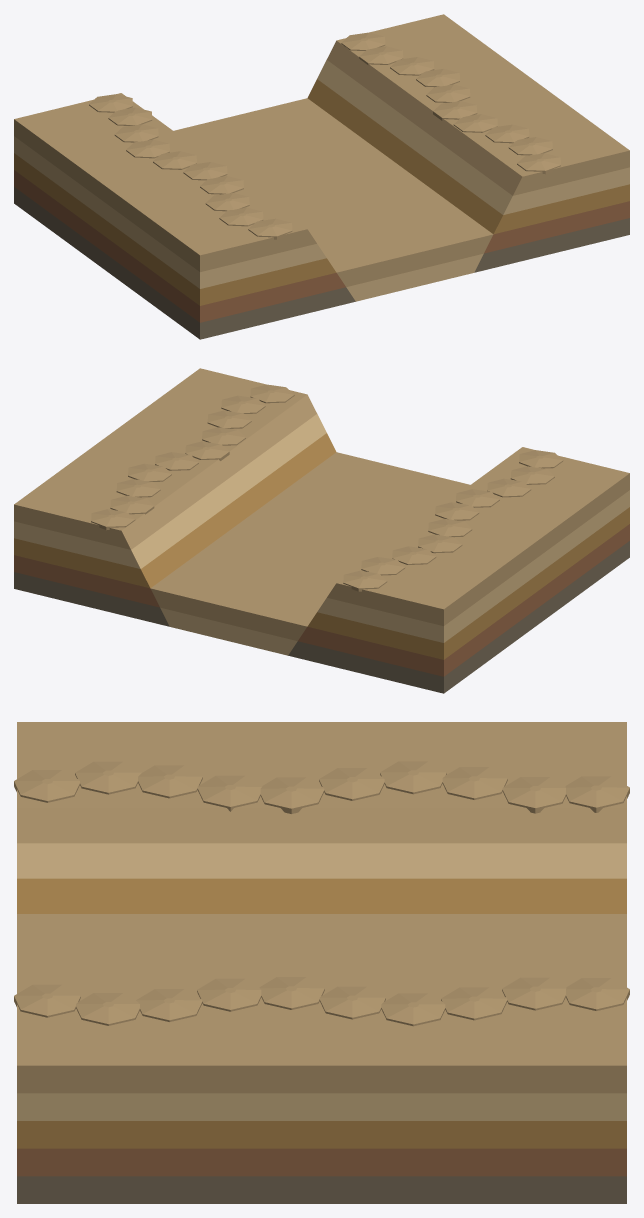
File: graben-basin.glb
3 renders of one model, top to bottom at view 1: azimuth 30°, elevation 25°; view 2: azimuth 150°, elevation 25°; view 3: azimuth 270°, elevation 25°, orthographic. The views are drawn at different scales.
Parts seen in each view (by area): view 1: down_dropped_central_block_layer_1, right_shoulder_layer_4, left_shoulder_layer_4, shoulder_subtle_erosion_relief, right_shoulder_layer_2, right_shoulder_layer_3, left_shoulder_layer_0, left_shoulder_layer_1, left_shoulder_layer_2, left_shoulder_layer_3, right_shoulder_layer_0, right_shoulder_layer_1 (+1 smaller); view 2: down_dropped_central_block_layer_1, right_shoulder_layer_4, left_shoulder_layer_4, shoulder_subtle_erosion_relief, right_shoulder_layer_2, right_shoulder_layer_3, left_shoulder_layer_0, left_shoulder_layer_1, left_shoulder_layer_2, left_shoulder_layer_3, right_shoulder_layer_0, right_shoulder_layer_1 (+1 smaller); view 3: left_shoulder_layer_4, right_shoulder_layer_4, down_dropped_central_block_layer_1, shoulder_subtle_erosion_relief, left_shoulder_layer_2, left_shoulder_layer_3, right_shoulder_layer_1, right_shoulder_layer_0, right_shoulder_layer_2, right_shoulder_layer_3.
Boxes of the visible parts, x1,y1,x2,y2 form: down_dropped_central_block_layer_1: (174,98,493,286); right_shoulder_layer_4: (327,14,629,195); left_shoulder_layer_4: (14,93,316,272); shoulder_subtle_erosion_relief: (89,32,560,239); right_shoulder_layer_2: (307,79,629,234); right_shoulder_layer_3: (317,60,629,214); left_shoulder_layer_0: (14,187,355,339); left_shoulder_layer_1: (14,170,345,322); left_shoulder_layer_2: (14,153,336,305); left_shoulder_layer_3: (14,136,326,288); right_shoulder_layer_0: (474,218,629,272); right_shoulder_layer_1: (484,201,629,253); down_dropped_central_block_layer_1: (150,452,469,640); right_shoulder_layer_4: (14,368,316,549); left_shoulder_layer_4: (327,447,629,626); shoulder_subtle_erosion_relief: (91,384,563,591); right_shoulder_layer_2: (14,433,336,588); right_shoulder_layer_3: (14,414,326,568); left_shoulder_layer_0: (288,541,629,693); left_shoulder_layer_1: (298,524,629,676); left_shoulder_layer_2: (307,507,629,659); left_shoulder_layer_3: (317,490,629,642); right_shoulder_layer_0: (14,572,169,626); right_shoulder_layer_1: (14,555,159,607); left_shoulder_layer_4: (17,722,626,843); right_shoulder_layer_4: (17,979,626,1093); down_dropped_central_block_layer_1: (17,914,626,979); shoulder_subtle_erosion_relief: (14,761,629,1026); left_shoulder_layer_2: (17,878,626,913); left_shoulder_layer_3: (17,843,626,878); right_shoulder_layer_1: (17,1148,626,1176); right_shoulder_layer_0: (17,1176,626,1203); right_shoulder_layer_2: (17,1121,626,1148); right_shoulder_layer_3: (17,1093,626,1120).
Size of the model in its own units: 80 by 15.54 by 60.59.
